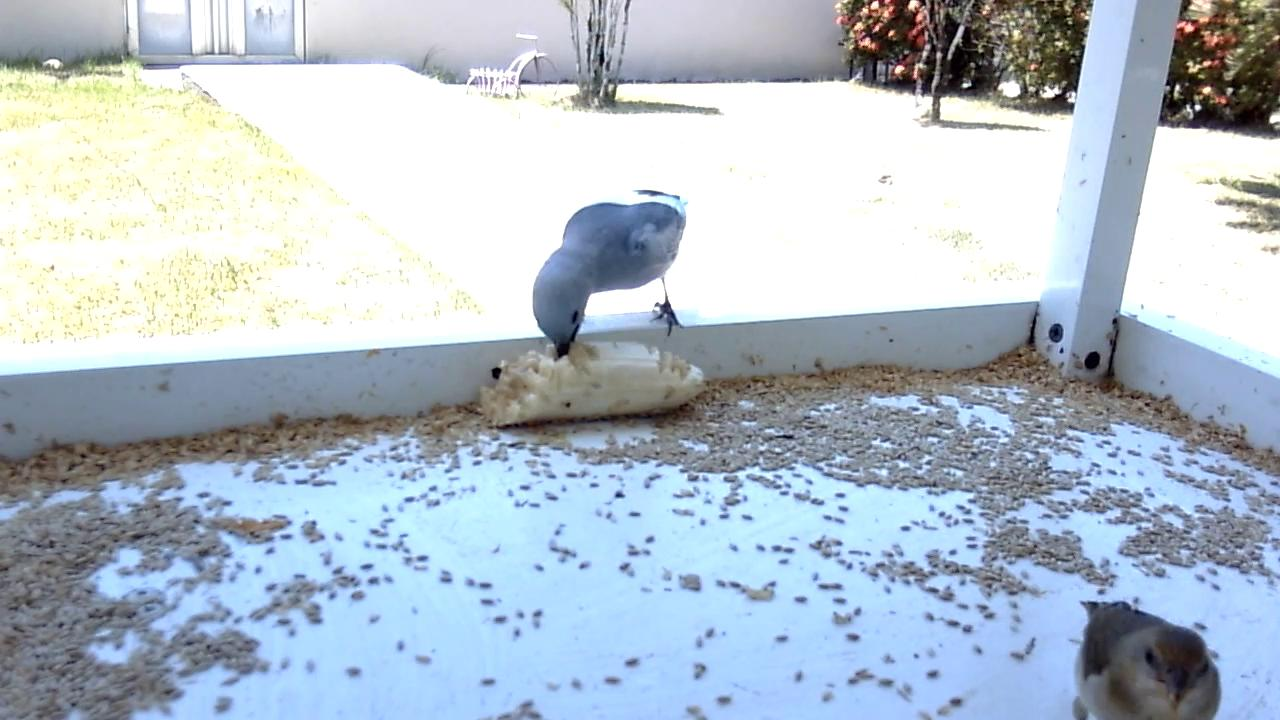canario_do_amazonas: (1068, 595, 1226, 720)
sanhaco_da_amazonia: (531, 183, 691, 362)
